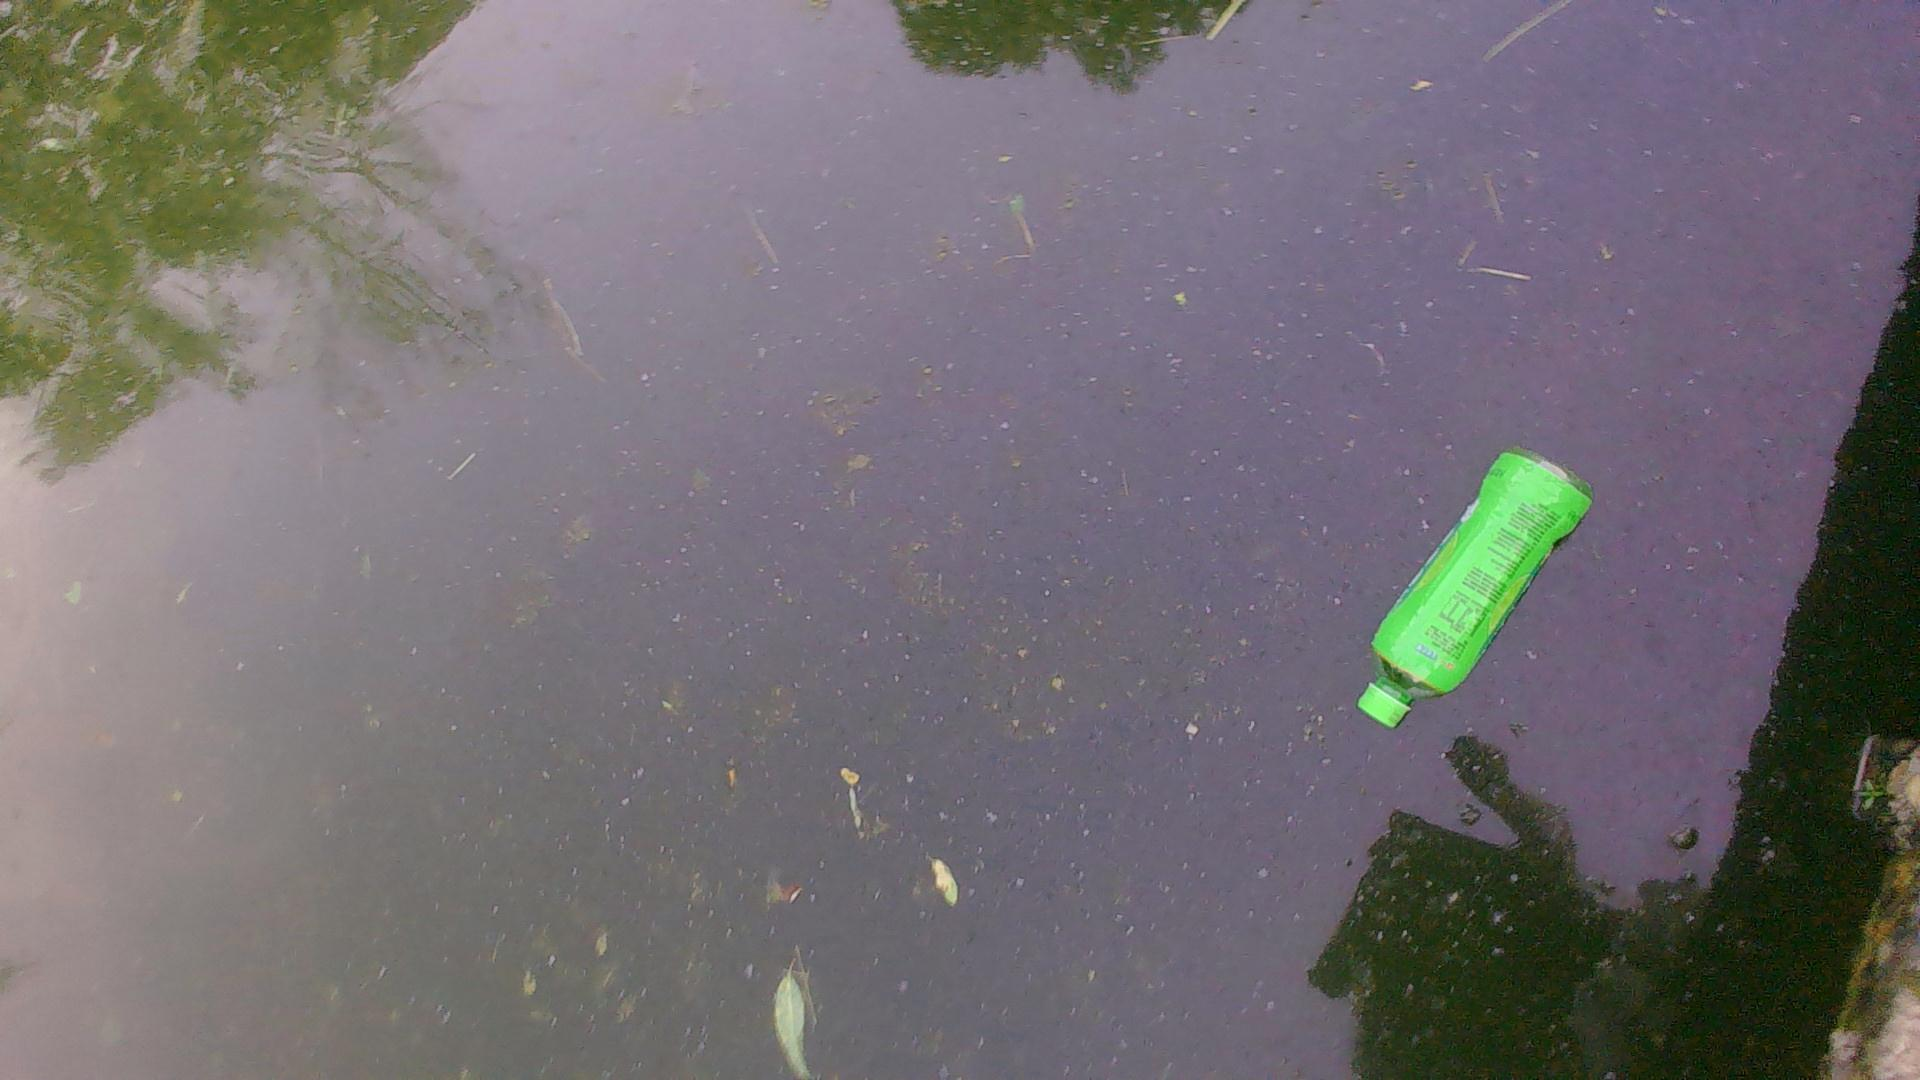Plastic: (1352, 450, 1606, 735)
